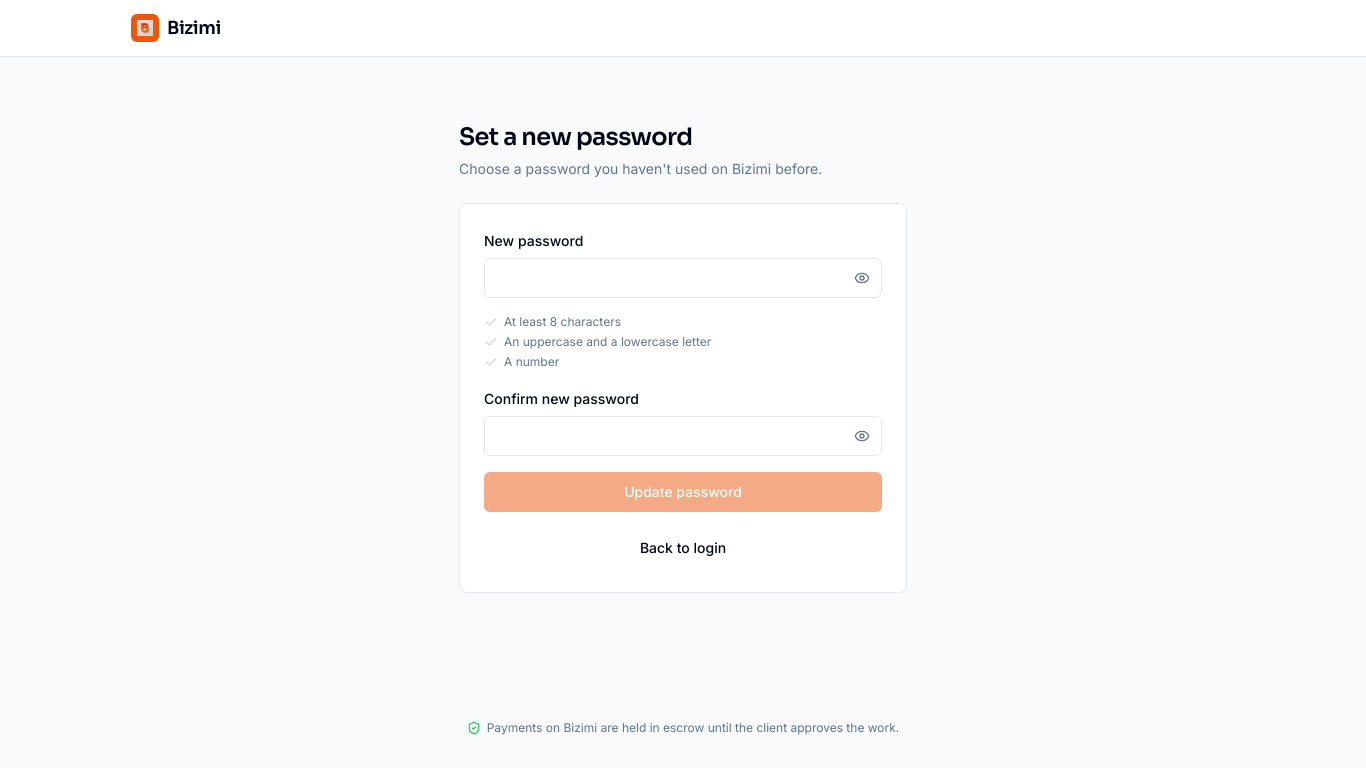
it: ResetPassword › rejects mismatched passwords before calling updateUser
Step 1. Type "GoodPass1" into the password field labelled "New password" → (683, 278), box [484,258,882,298]
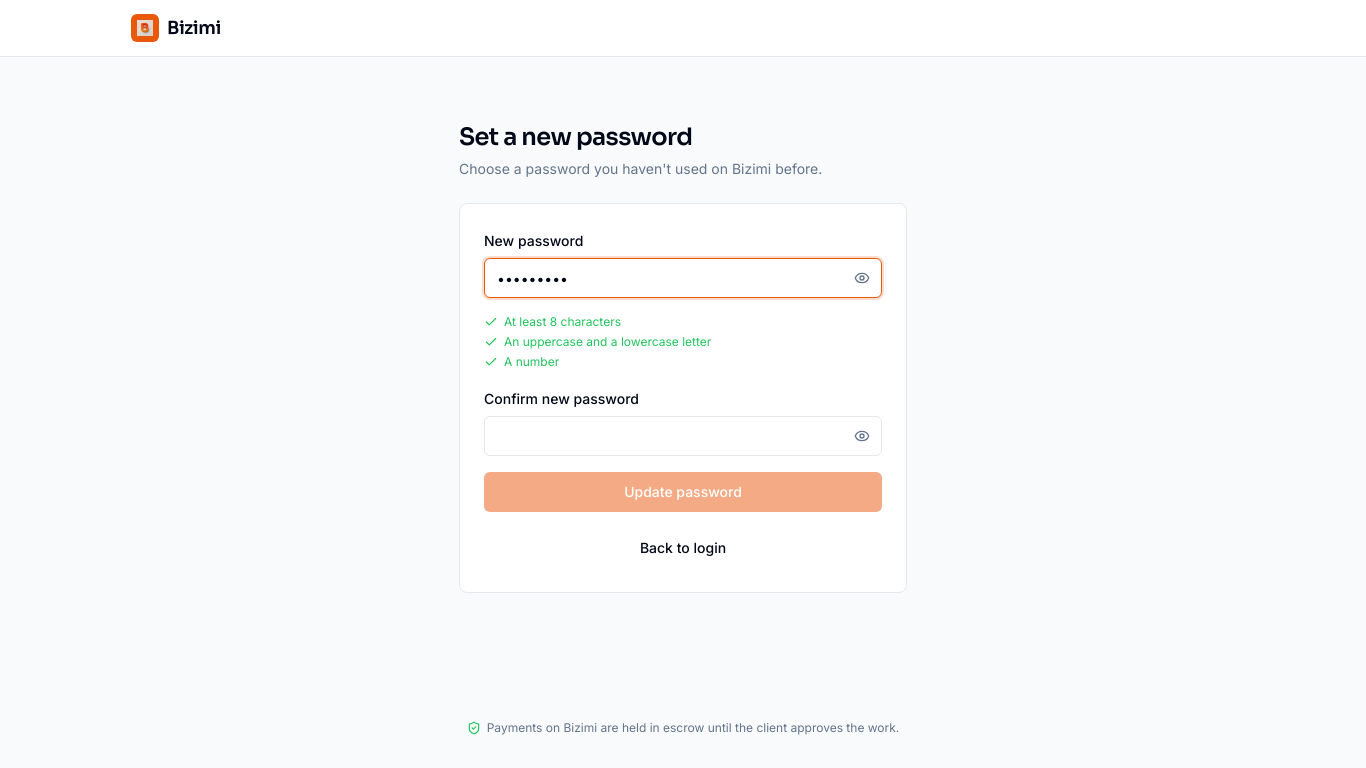
Step 2. Type "GoodPass2" into the password field labelled "Confirm new password" → (683, 436), box [484,416,882,456]
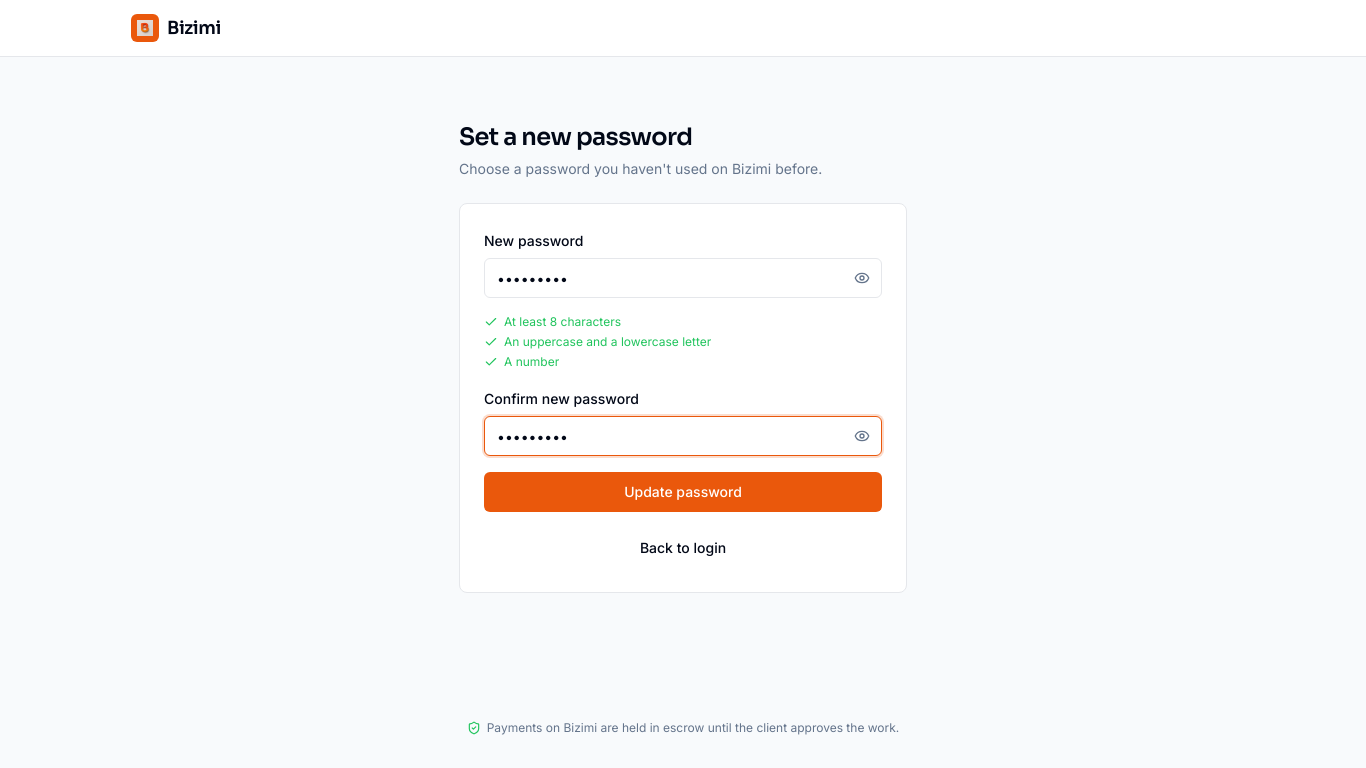
Step 3. Click the button "Update password" → (683, 492), box [484,472,882,512]
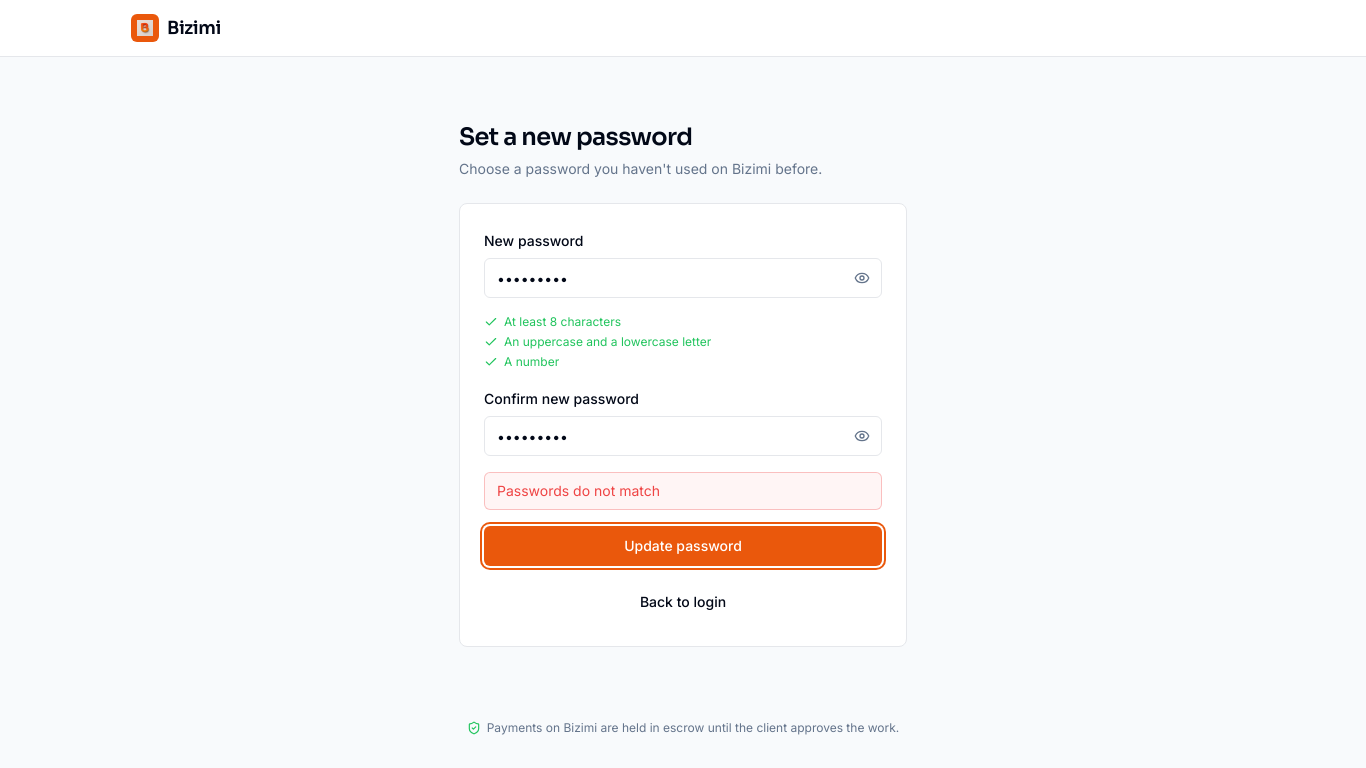
Expected: the text "Passwords do not match" is shown, [484,472,882,510]
